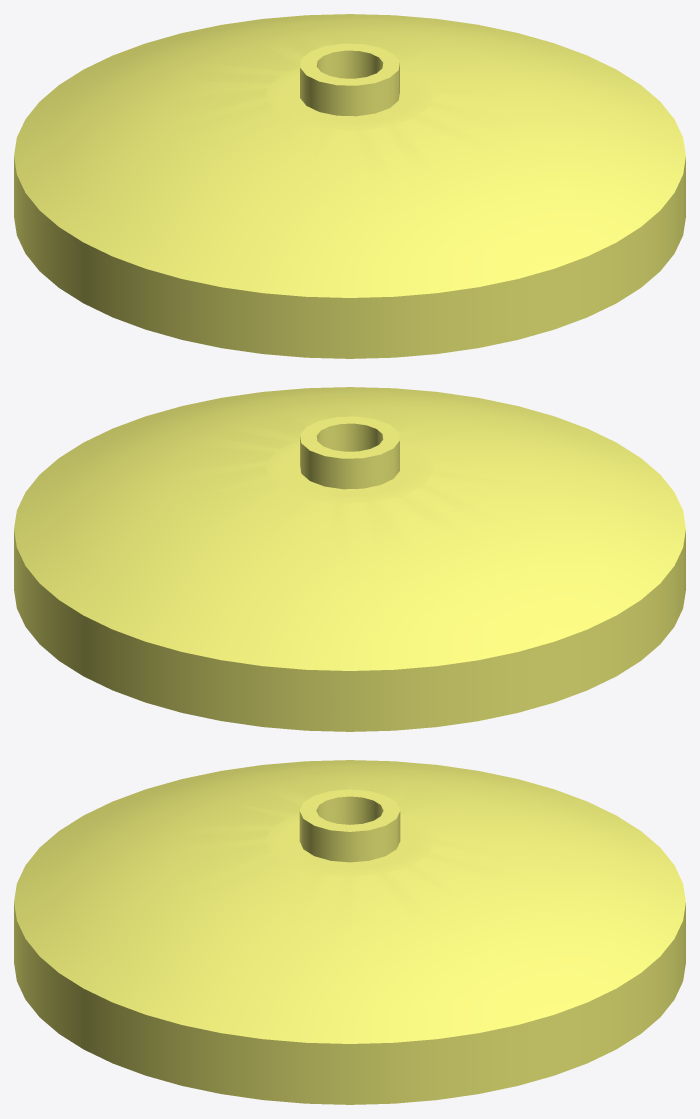
The picture shows the model from 3 angles, top to bottom: view 1: azimuth 30°, elevation 25°; view 2: azimuth 150°, elevation 25°; view 3: azimuth 270°, elevation 25°; orthographic projection.
Visible parts, largest first — view 1: 35394.dat; view 2: 35394.dat; view 3: 35394.dat.
Part boxes in pixels (x1=…): 35394.dat: x1=14, y1=14, x2=685, y2=358; 35394.dat: x1=14, y1=387, x2=685, y2=731; 35394.dat: x1=14, y1=760, x2=685, y2=1104.
Bounding box in the file's own units: 0.032 × 0.008 × 0.032.
